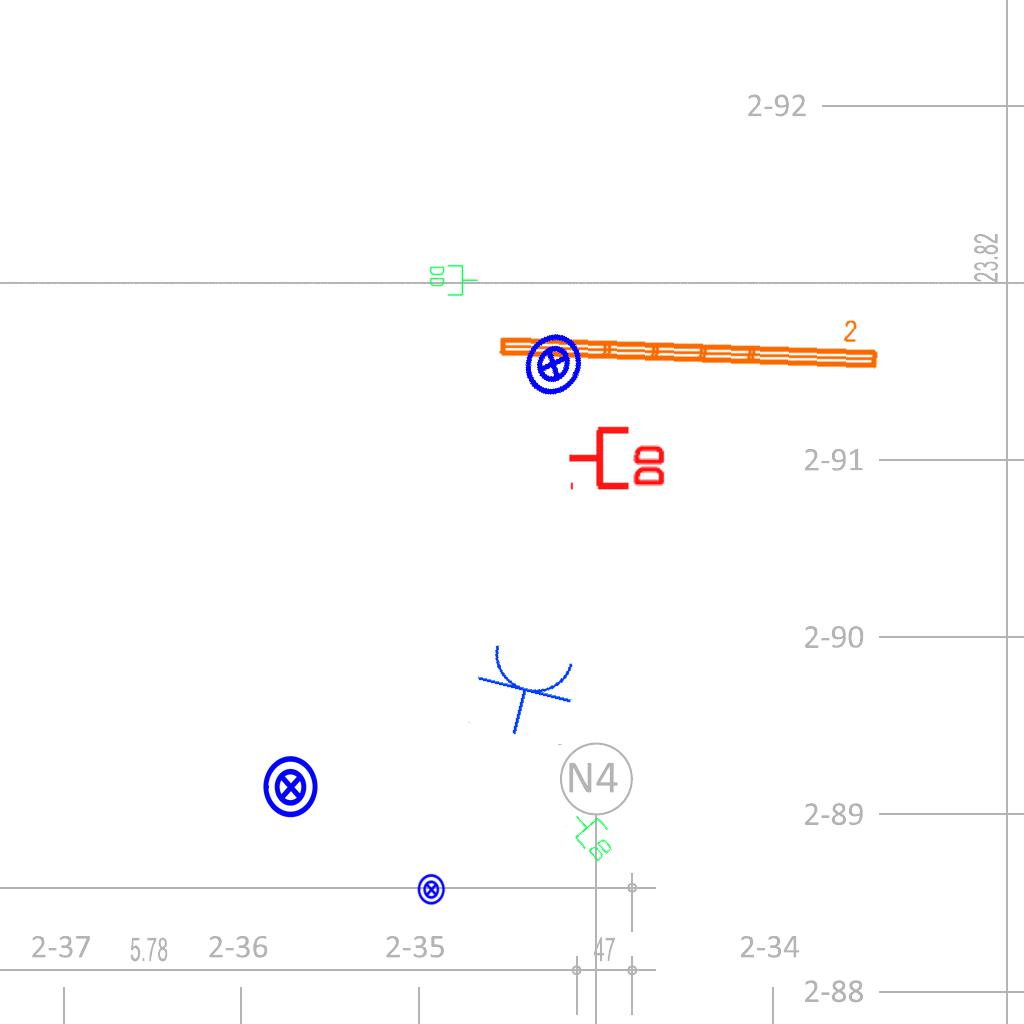Ambulanz_Pendelleuchte_LED: (494, 305, 883, 375)
Datenanschluss_zweifach: (566, 422, 669, 491), (562, 804, 623, 866), (428, 263, 479, 297)
Schukosteckdose_einfach: (465, 638, 585, 747)
Taster_beleuchtet: (509, 320, 597, 408), (258, 754, 324, 820), (415, 873, 448, 906)
